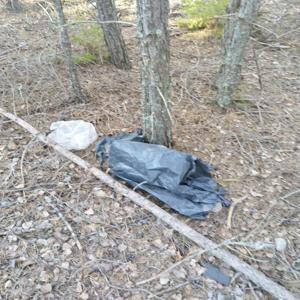plastic: (96, 128, 236, 225), (44, 114, 101, 157)
